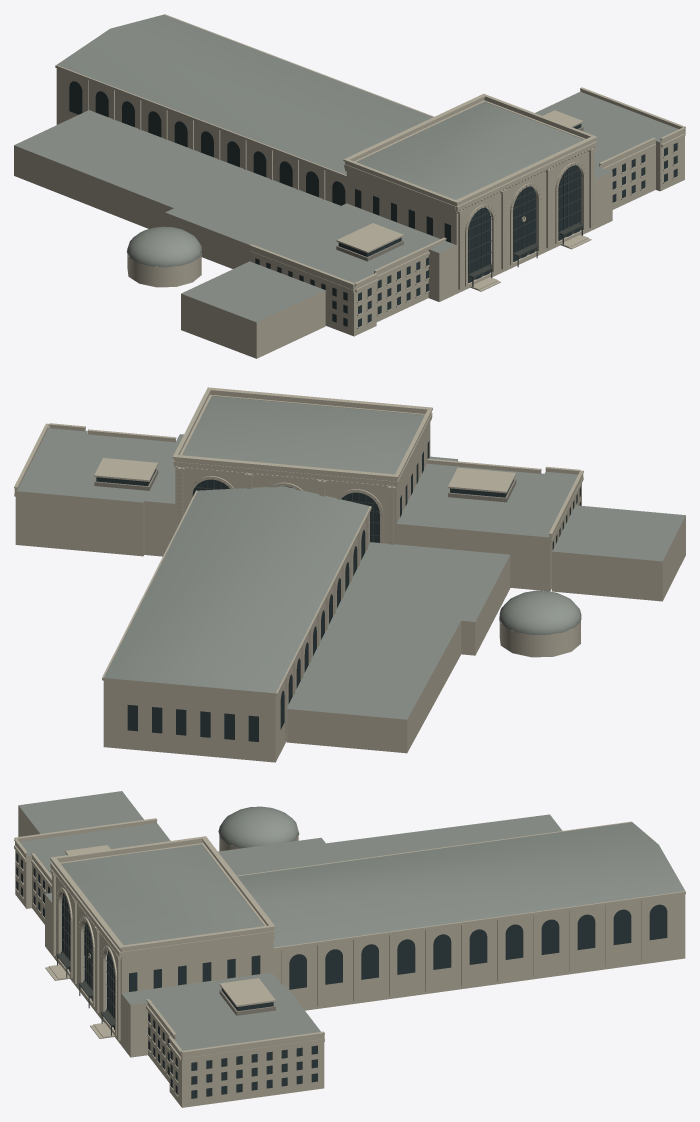
File: union-station-kansas-city-near.glb
3 renders of one model, top to bottom at view 1: azimuth 30°, elevation 25°; view 2: azimuth 150°, elevation 25°; view 3: azimuth 270°, elevation 25°, orthographic. The views are drawn at different scales.
Parts seen in each view (by area): view 1: union-station-kansas-city-0-roof, union-station-kansas-city-0-stone, union-station-kansas-city-0-glass, union-station-kansas-city-0-metal, union-station-kansas-city-0-base; view 2: union-station-kansas-city-0-roof, union-station-kansas-city-0-stone, union-station-kansas-city-0-glass, union-station-kansas-city-0-base; view 3: union-station-kansas-city-0-roof, union-station-kansas-city-0-stone, union-station-kansas-city-0-glass, union-station-kansas-city-0-metal.
Boxes of the visible parts, x1,y1,x2,y2 form: union-station-kansas-city-0-roof: (14,14,678,322); union-station-kansas-city-0-stone: (14,14,685,358); union-station-kansas-city-0-glass: (69,81,677,327); union-station-kansas-city-0-metal: (468,165,583,286); union-station-kansas-city-0-base: (336,126,593,286); union-station-kansas-city-0-roof: (17,396,685,719); union-station-kansas-city-0-stone: (14,387,685,762); union-station-kansas-city-0-glass: (96,441,580,741); union-station-kansas-city-0-base: (94,469,516,542); union-station-kansas-city-0-roof: (18,791,684,1050); union-station-kansas-city-0-stone: (14,805,685,1107); union-station-kansas-city-0-glass: (16,853,667,1098); union-station-kansas-city-0-metal: (56,893,114,1035).
Bounding box in the file's own units: 191 × 32.8 × 195.
